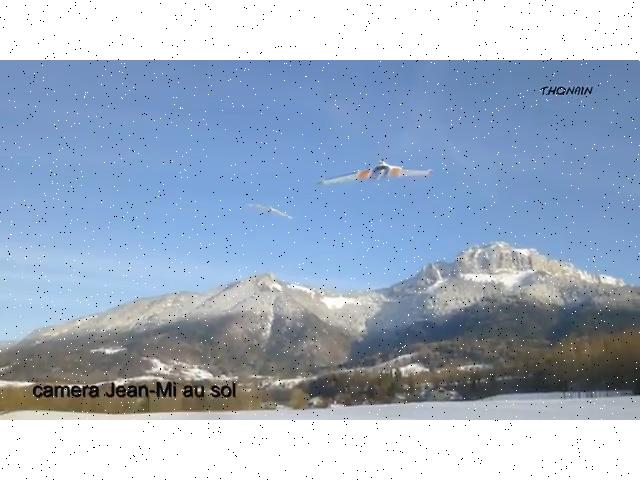Anti-Drone: (305, 154, 441, 190), (238, 194, 298, 224)
